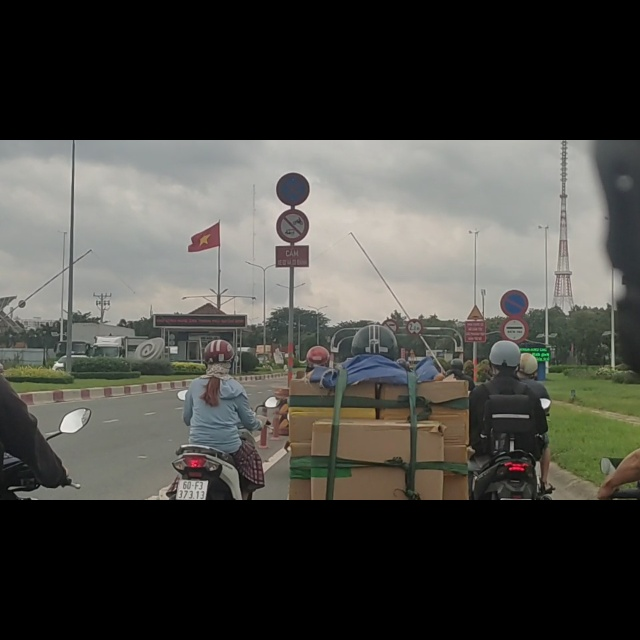bien_cam: (277, 123, 310, 183), (276, 58, 310, 115), (500, 267, 529, 311), (501, 316, 529, 361), (467, 290, 484, 320), (407, 316, 423, 347)
